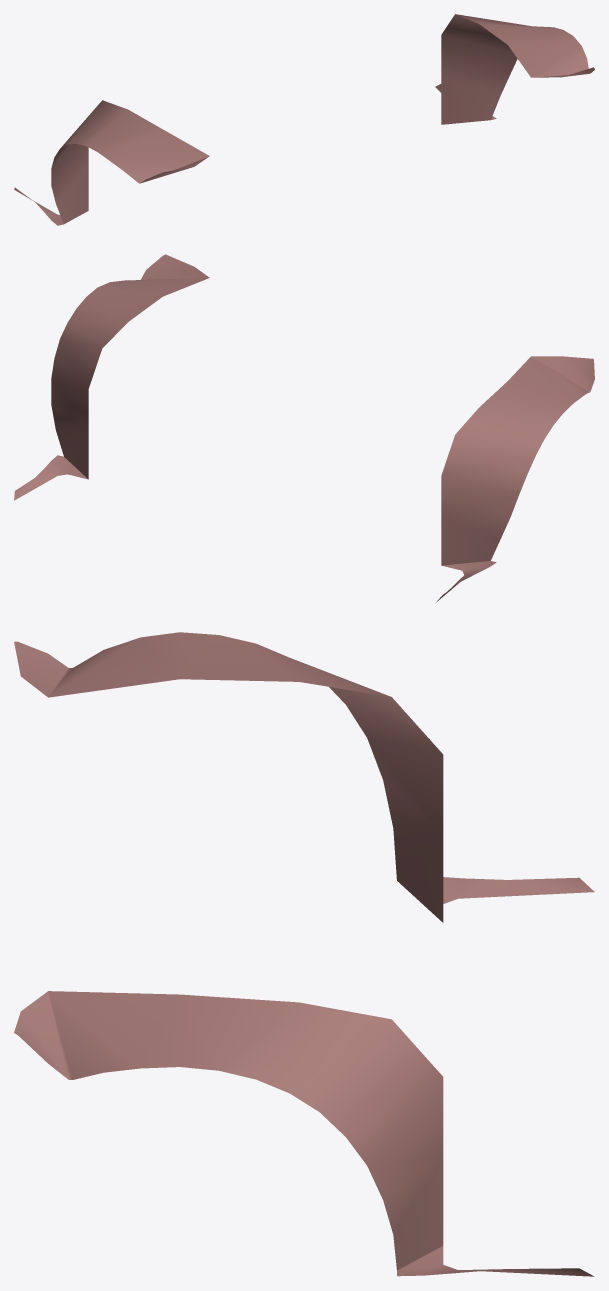
File: Mustang16_Fender_GT_Trim.fbx
3 renders of one model, top to bottom at view 1: azimuth 30°, elevation 25°; view 2: azimuth 150°, elevation 25°; view 3: azimuth 270°, elevation 25°, orthographic. The views are drawn at different scales.
Visible parts, largest first — view 1: Mustang16_Fender_GT_Trim; view 2: Mustang16_Fender_GT_Trim; view 3: Mustang16_Fender_GT_Trim.
Part boxes in pixels (x1,y1,x2,y2): Mustang16_Fender_GT_Trim: (14,14,594,225); Mustang16_Fender_GT_Trim: (14,254,594,602); Mustang16_Fender_GT_Trim: (14,632,594,1276).
Bounding box in the file's own units: 194 × 51.31 × 109.
